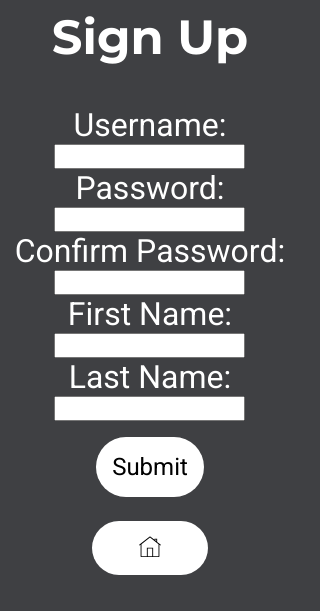
Scenario: Signup Component › shows error if passwords do not match
This screenshot has width=320, height=611.
Type "newuser" into the field labelled "Username:".
click(150, 156); type("newuser")  # box [54,144,246,169]
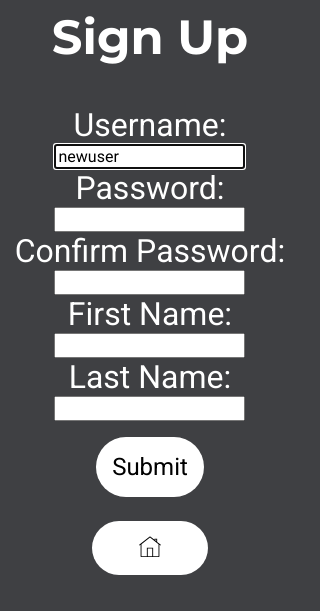
Type "123" into the password field labelled "Password:".
click(150, 219); type("123")  # box [54,207,246,232]
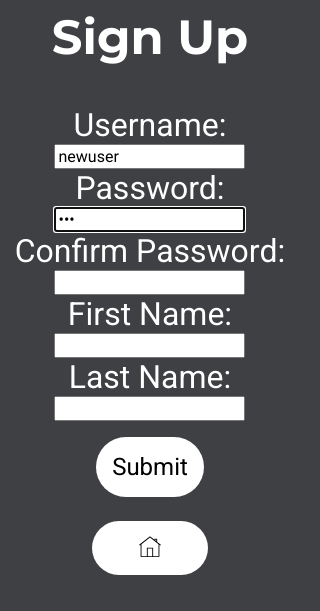
Type "1234" into the password field labelled "Confirm Password:".
click(150, 282); type("1234")  # box [54,270,246,295]
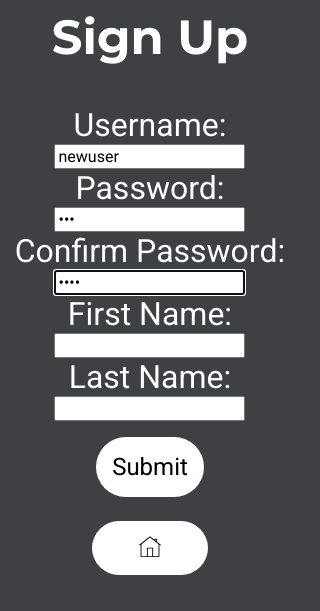
Type "first" into the field labelled "First Name:".
click(150, 345); type("first")  # box [54,333,246,358]
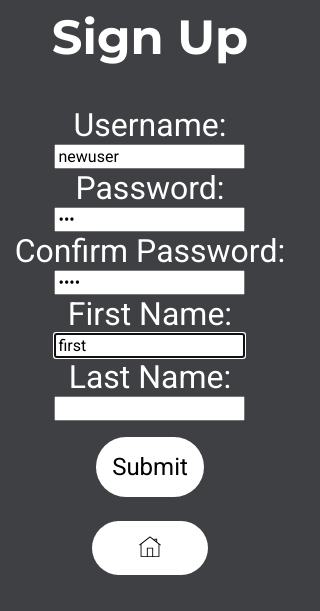
Type "last" into the field labelled "Last Name:".
click(150, 408); type("last")  # box [54,396,246,421]
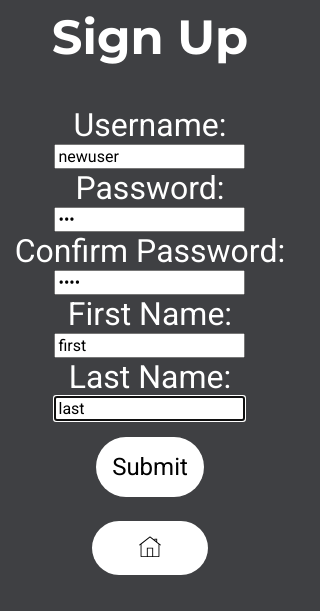
Click the button "Submit".
click(150, 467)  # box [96,437,204,497]
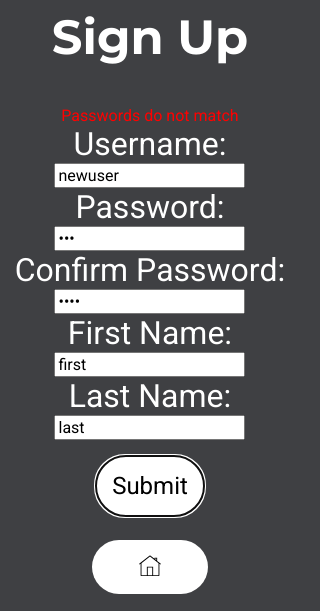
expect the text "Passwords do not match" is shown: met, box [61,106,239,125]
